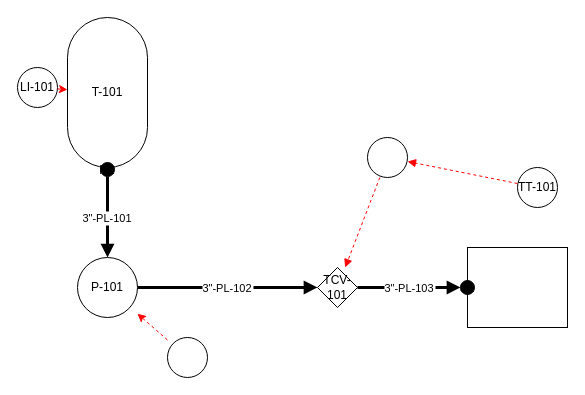
Image size: 585x395. Some labels were removed from this diagram. Here are the shapes that lost their labels. From the top down, the box of each, then its label:
(366, 136, 408, 178): TIC-101
(466, 246, 568, 328): HE-101
(166, 336, 208, 378): PI-101
